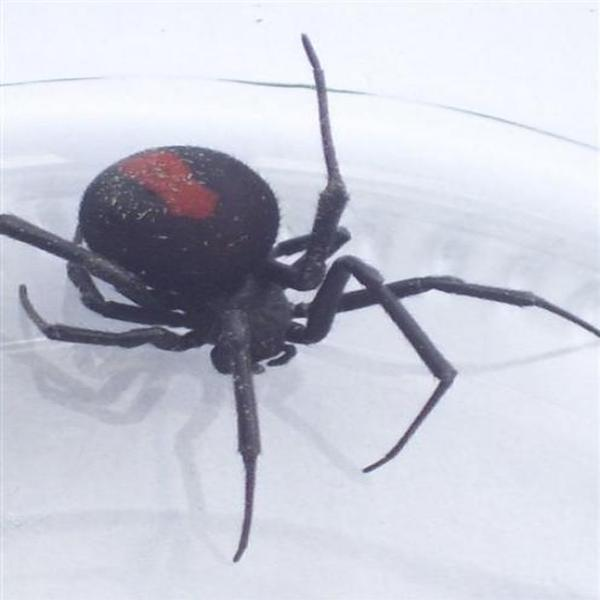Redback_Spider: (5, 32, 599, 559)
